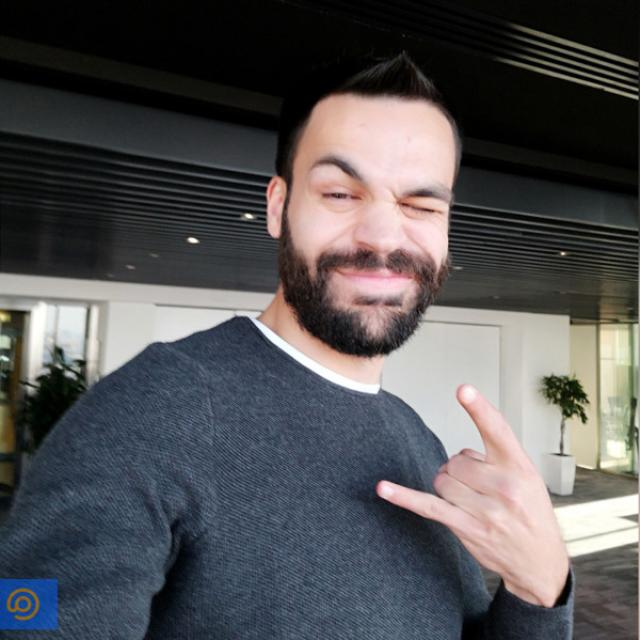earlobe: (265, 212, 284, 240)
eye: (399, 197, 440, 218), (322, 188, 364, 204)
nose: (359, 240, 409, 269)
wholeear: (265, 175, 286, 240)
